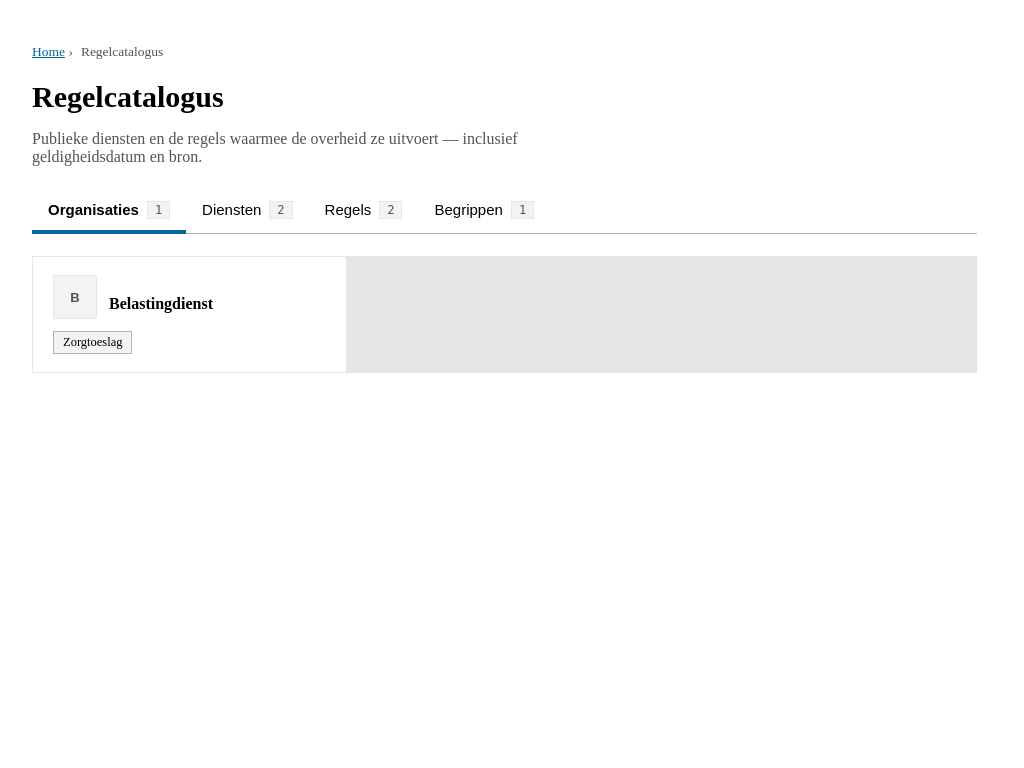
Scenario: Regelcatalogus › Rules tab: a rule with a description is collapsed by default and expands on click; a rule without one has no toggle
The width and height of the screenshot is (1024, 768).
Click the tab "Regels 2" at (363, 212), box left=308, top=190, right=418, bottom=234
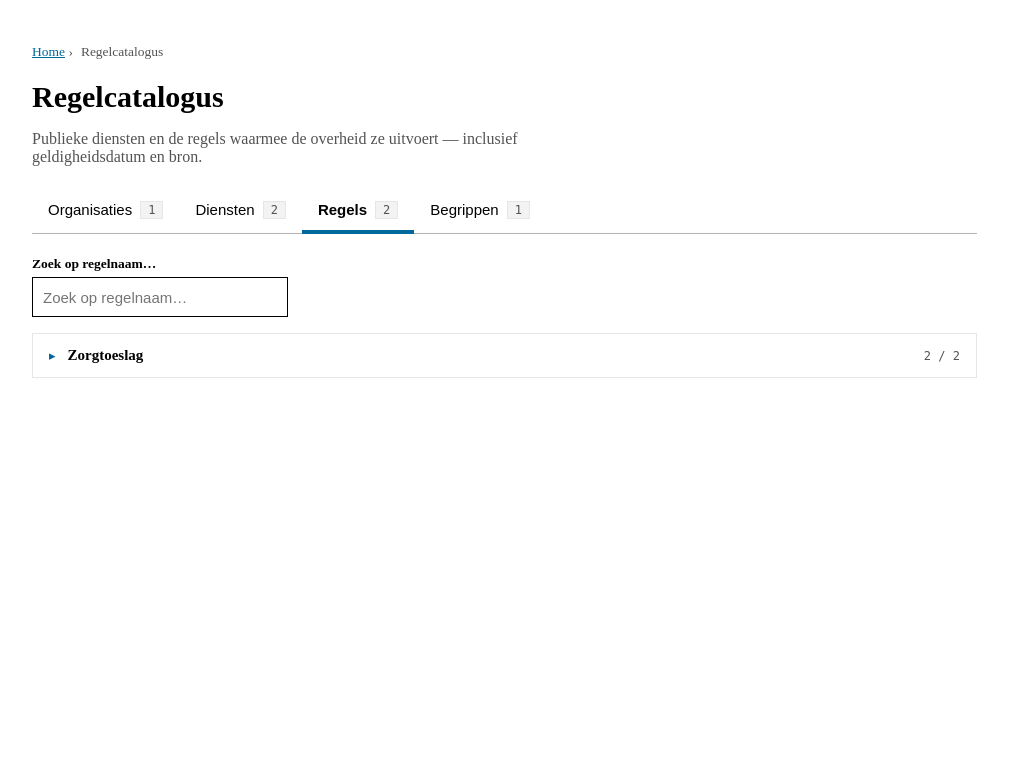
Click the text "Zorgtoeslag" at (105, 356), box left=68, top=347, right=143, bottom=364
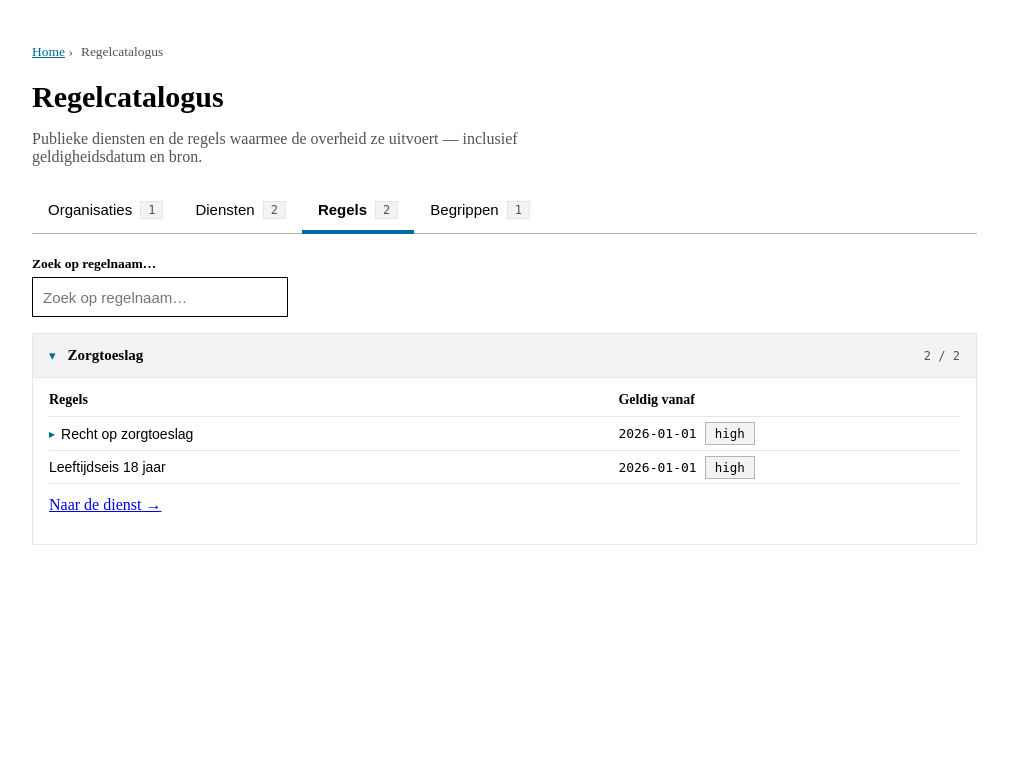
Expected: the text "De aanvrager heeft recht op zorgtoeslag als..." is not shown
Result: the button "▸ Recht op zorgtoeslag" is shown
Click the button "▸ Recht op zorgtoeslag" at (121, 434), box left=49, top=426, right=193, bottom=442
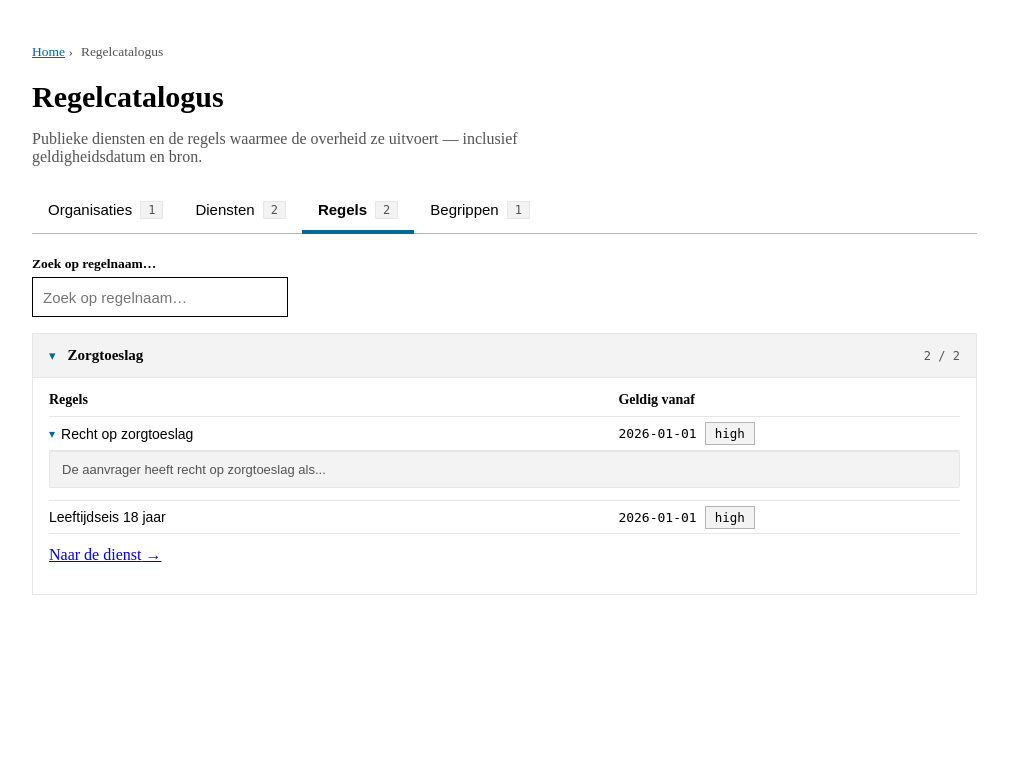
Result: the column heading "Leeftijdseis 18 jaar" is shown at left=49, top=501, right=618, bottom=534
Result: the button "▾ Recht op zorgtoeslag" is expanded at left=49, top=426, right=193, bottom=442
Result: the text "De aanvrager heeft recht op zorgtoeslag als..." is shown at left=49, top=451, right=960, bottom=488
